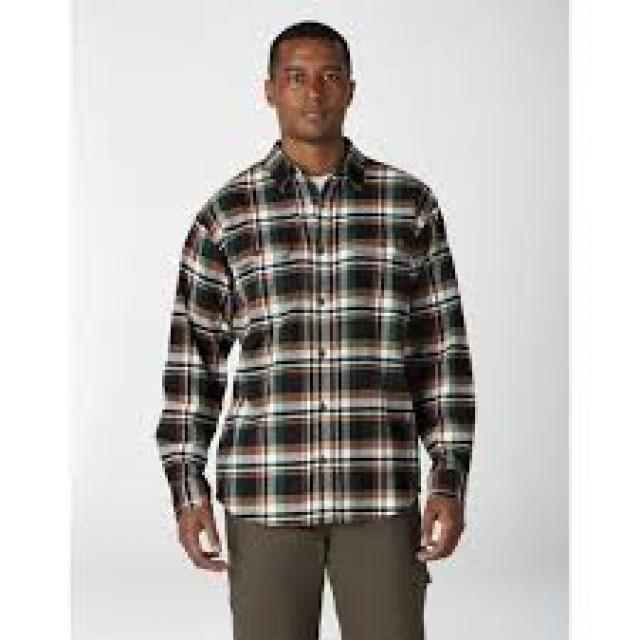plaid: (149, 130, 477, 516)
